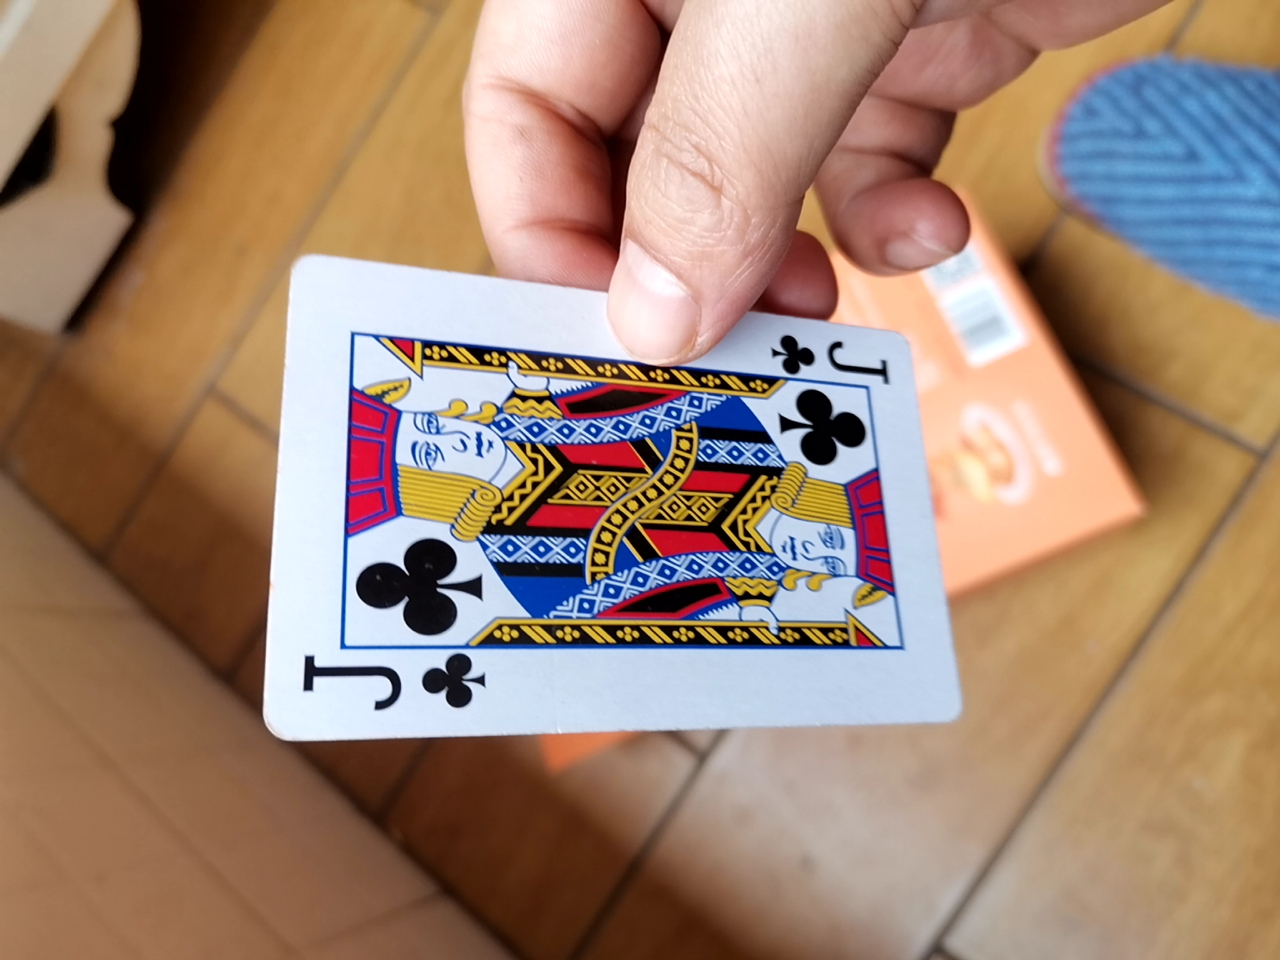mh j: (250, 255, 966, 758)
